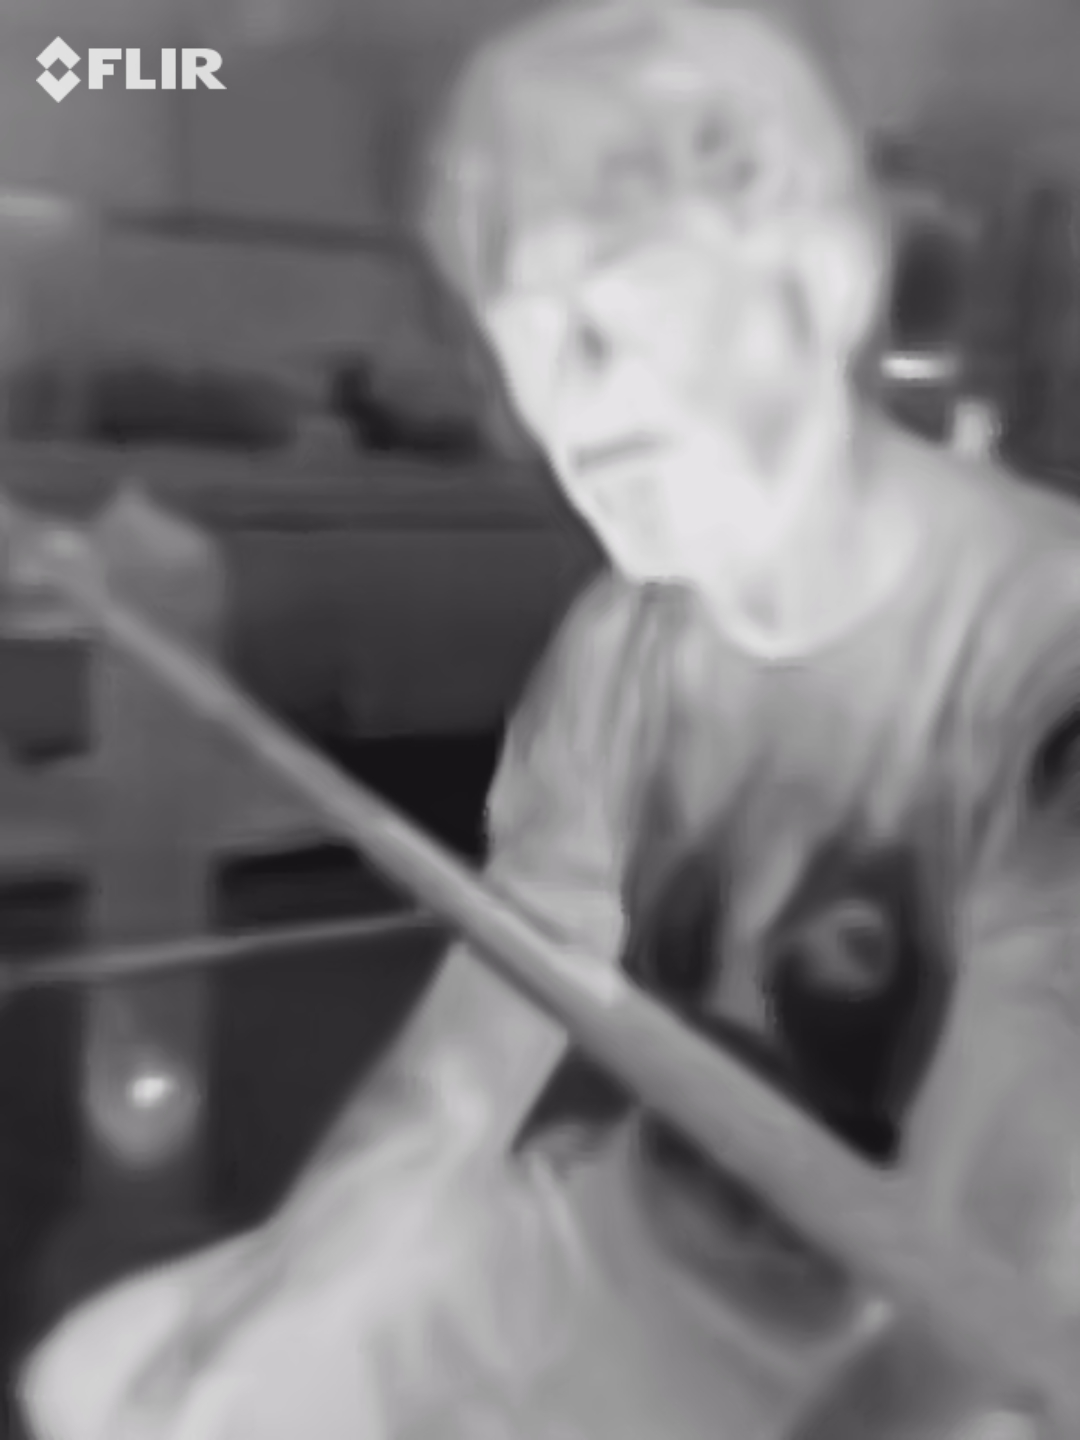head: (436, 1, 898, 595)
